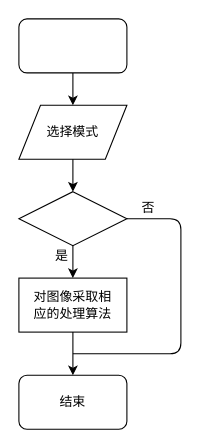
Image size: 201x448. Some labels were removed from this diagram. Here are the shapes that lost their labels. From the top down, the centre of each, then its label:
the point at 72,45: 开始
the point at 72,218: 滤镜效果 是否开启
